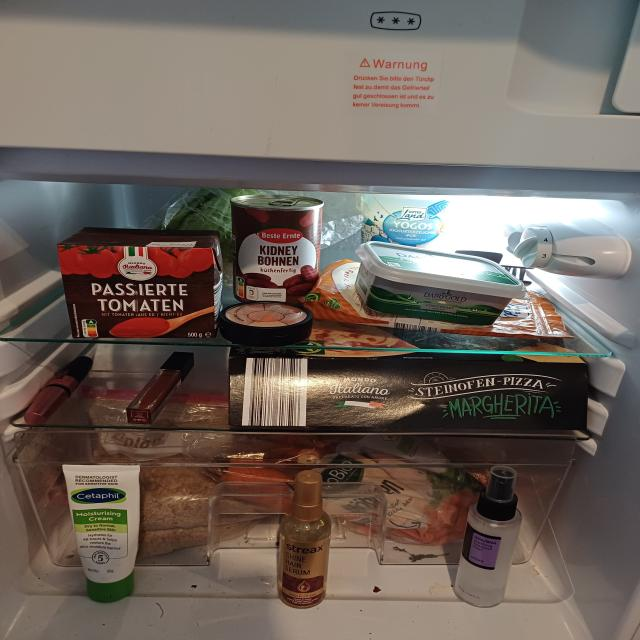Beans: (222, 192, 331, 304)
Butter: (362, 240, 520, 323)
Cheese: (319, 254, 569, 341)
Hair serum: (280, 469, 336, 609)
Lipstick: (121, 346, 197, 431)
Make up: (218, 300, 316, 338)
Masscara: (28, 352, 92, 434)
Moisturizer: (58, 462, 144, 603)
Pizza: (224, 340, 591, 436)
Tomato Puree: (55, 224, 218, 343)
Toner: (455, 465, 524, 613)
Yogurt: (351, 186, 466, 251)
cabbage: (164, 186, 313, 270)
carrots: (210, 443, 494, 541)
